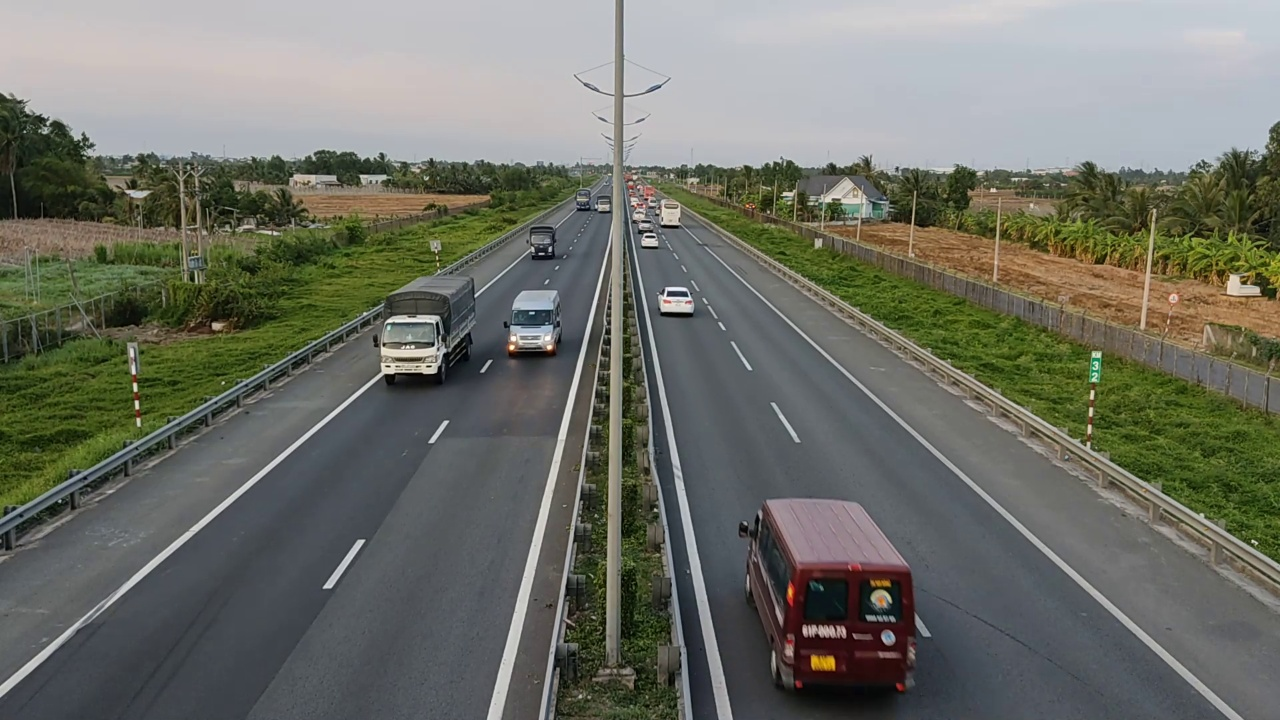car: (500, 283, 562, 360), (655, 285, 695, 317)
truck: (737, 496, 919, 694), (375, 273, 476, 386)
